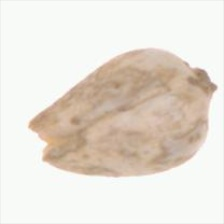L1: (28, 116, 59, 164), (185, 60, 217, 99)
L2: (28, 48, 218, 178)
